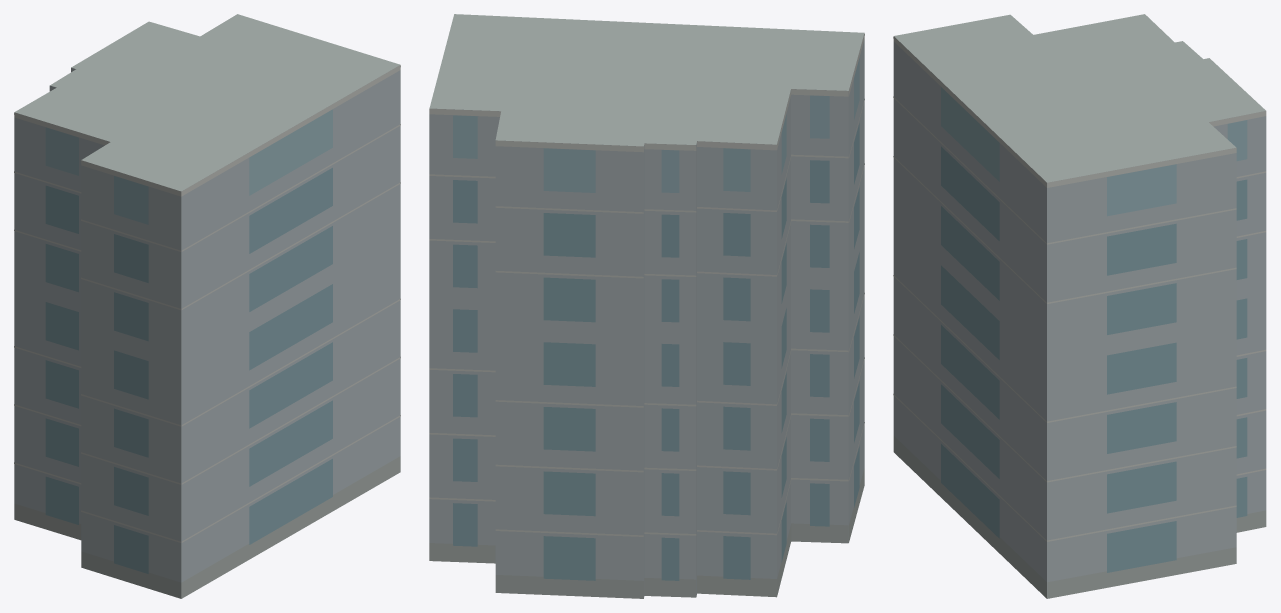
File: survey-upis-32999548.glb
The picture shows the model from 3 angles, left to right: view 1: azimuth 30°, elevation 25°; view 2: azimuth 150°, elevation 25°; view 3: azimuth 270°, elevation 25°; orthographic projection. The views are drawn at different scales.
Parts seen in each view (by area): view 1: survey-upis-32999548.tmp; view 2: survey-upis-32999548.tmp; view 3: survey-upis-32999548.tmp.
Boxes of the visible parts, x1,y1,x2,y2 form: survey-upis-32999548.tmp: (14,14,400,598); survey-upis-32999548.tmp: (429,14,864,598); survey-upis-32999548.tmp: (893,14,1266,598).
Bounding box in the file's own units: 16.63 × 19.1 × 15.52.
